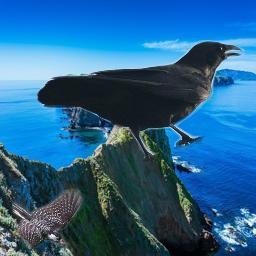Crow: (36, 40, 245, 163)
Woodpecker: (12, 188, 85, 249)
